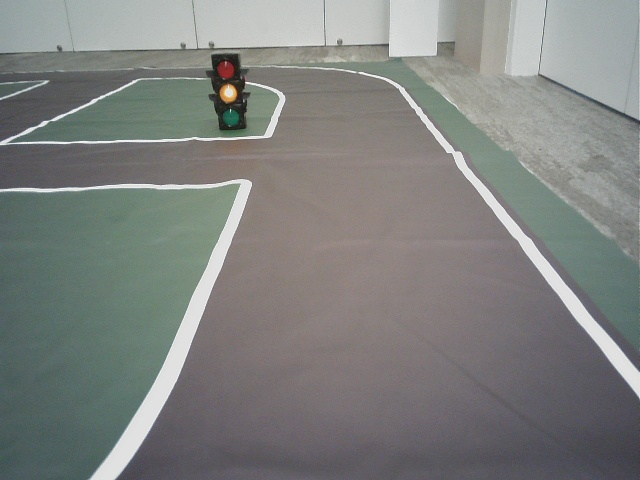yellow: (215, 56, 242, 130)
